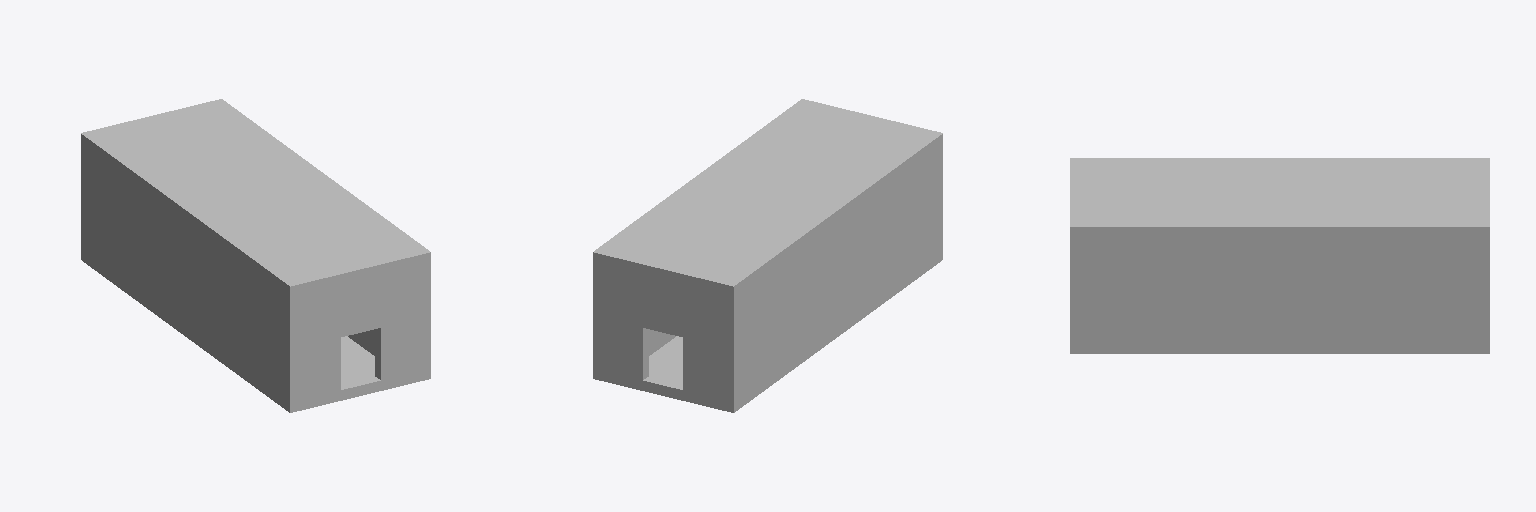
File: jiksun_bokdo.obj
The picture shows the model from 3 angles: view 1: azimuth 30°, elevation 25°; view 2: azimuth 150°, elevation 25°; view 3: azimuth 270°, elevation 25°; orthographic projection.
Parts seen in each view (by area): view 1: Cube.015, Cube.002, Cube, Cube.004, Cube.003, Cube.008, Cube.001; view 2: Cube.015, Cube.002, Cube, Cube.005, Cube.006, Cube.007, Cube.001; view 3: Cube.001, Cube.015, Cube.
Boxes of the visible parts, box(x1,y1,x2,y2) form: Cube.015: box(81, 99, 430, 296); Cube.002: box(81, 144, 299, 402); Cube: box(81, 250, 430, 412); Cube.004: box(375, 265, 420, 379); Cube.003: box(300, 285, 340, 399); Cube.008: box(341, 275, 380, 336); Cube.001: box(421, 263, 430, 370); Cube.015: box(593, 99, 942, 296); Cube.002: box(724, 144, 942, 402); Cube: box(593, 250, 942, 412); Cube.005: box(603, 265, 648, 379); Cube.006: box(683, 285, 723, 399); Cube.007: box(643, 275, 682, 336); Cube.001: box(593, 263, 602, 370); Cube.001: box(1070, 238, 1489, 342); Cube.015: box(1070, 158, 1489, 237); Cube: box(1070, 343, 1489, 353).
Bounding box in the file's own units: 14 × 12 × 36.